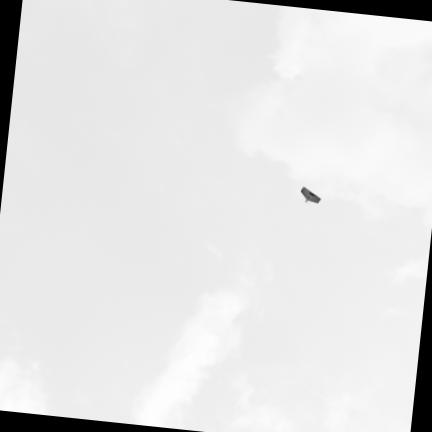Shahed: (299, 186, 321, 205)
